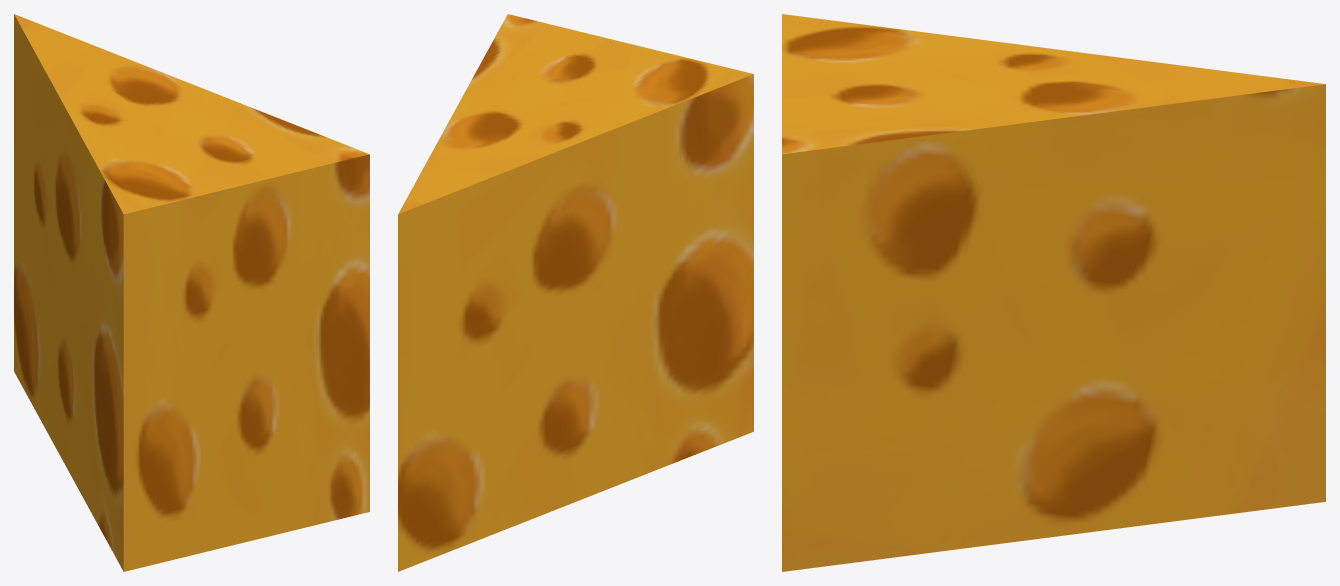
The model's file is SM_PROP_food_cheese_06.FBX.
The picture shows the model from 3 angles, left to right: view 1: azimuth 30°, elevation 25°; view 2: azimuth 150°, elevation 25°; view 3: azimuth 270°, elevation 25°; orthographic projection. The views are drawn at different scales.
Visible parts, largest first — view 1: SM_PROP_food_cheese_06; view 2: SM_PROP_food_cheese_06; view 3: SM_PROP_food_cheese_06.
Part boxes in pixels (bbox=[...]): SM_PROP_food_cheese_06: bbox=[14, 14, 369, 571]; SM_PROP_food_cheese_06: bbox=[398, 14, 753, 571]; SM_PROP_food_cheese_06: bbox=[782, 14, 1325, 571].
Bounding box in the file's own units: 5.69 × 9.33 × 7.9.
